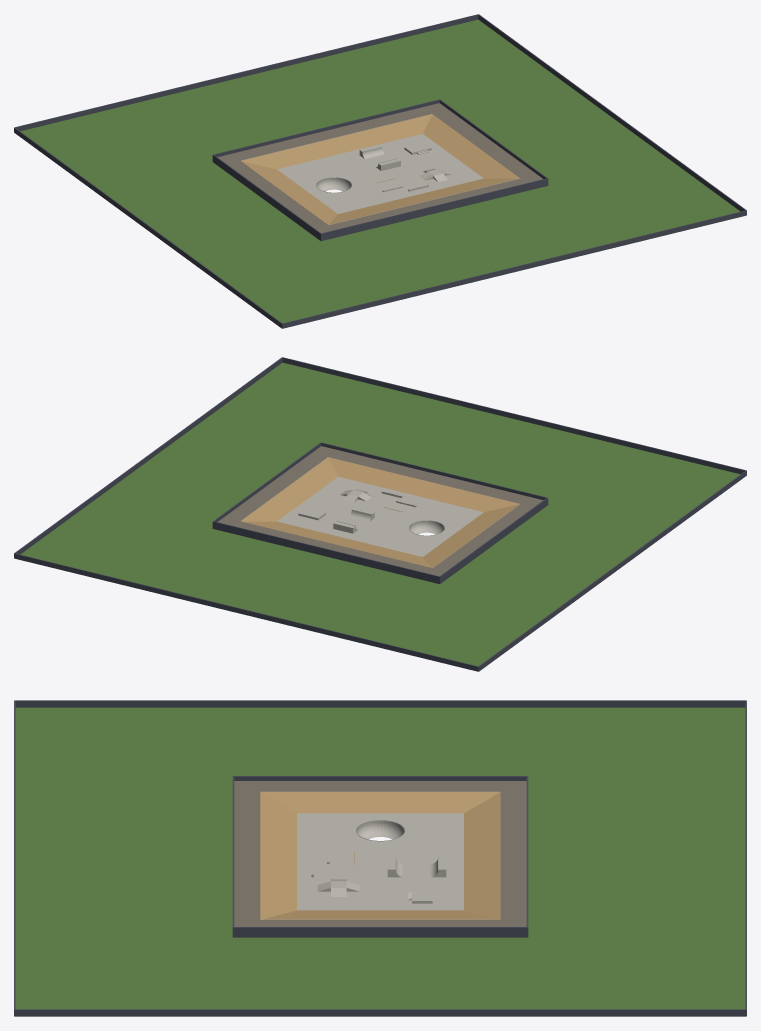
The model's file is spot_ralis.glb.
The picture shows the model from 3 angles, top to bottom: view 1: azimuth 30°, elevation 25°; view 2: azimuth 150°, elevation 25°; view 3: azimuth 270°, elevation 25°; orthographic projection. The views are drawn at different scales.
Visible parts, largest first — view 1: spot_ralis; view 2: spot_ralis; view 3: spot_ralis.
Part boxes in pixels (bbox=[...]): spot_ralis: bbox=[14, 14, 746, 328]; spot_ralis: bbox=[14, 357, 746, 671]; spot_ralis: bbox=[14, 700, 746, 1016].
Size of the model in its own units: 140 by 4.68 by 140.
Materials: 1 (1 with a texture image).
